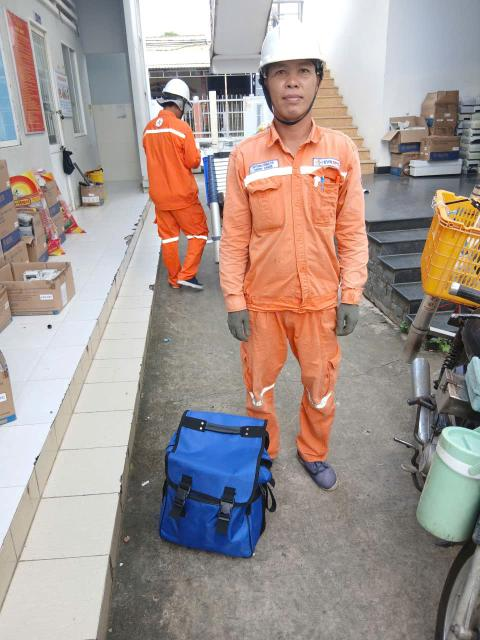gloves: (216, 301, 263, 347), (323, 296, 363, 343)
helmet: (262, 6, 328, 87), (162, 70, 193, 116)
shoes: (291, 446, 347, 508), (175, 266, 208, 293)
